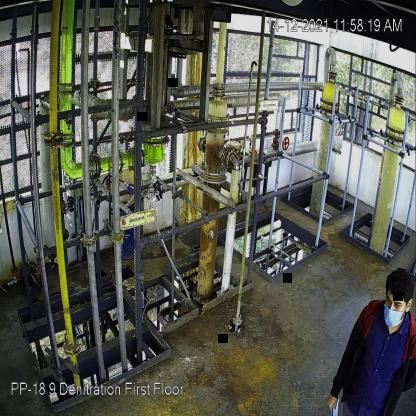no_goggles: (386, 295, 404, 311)
